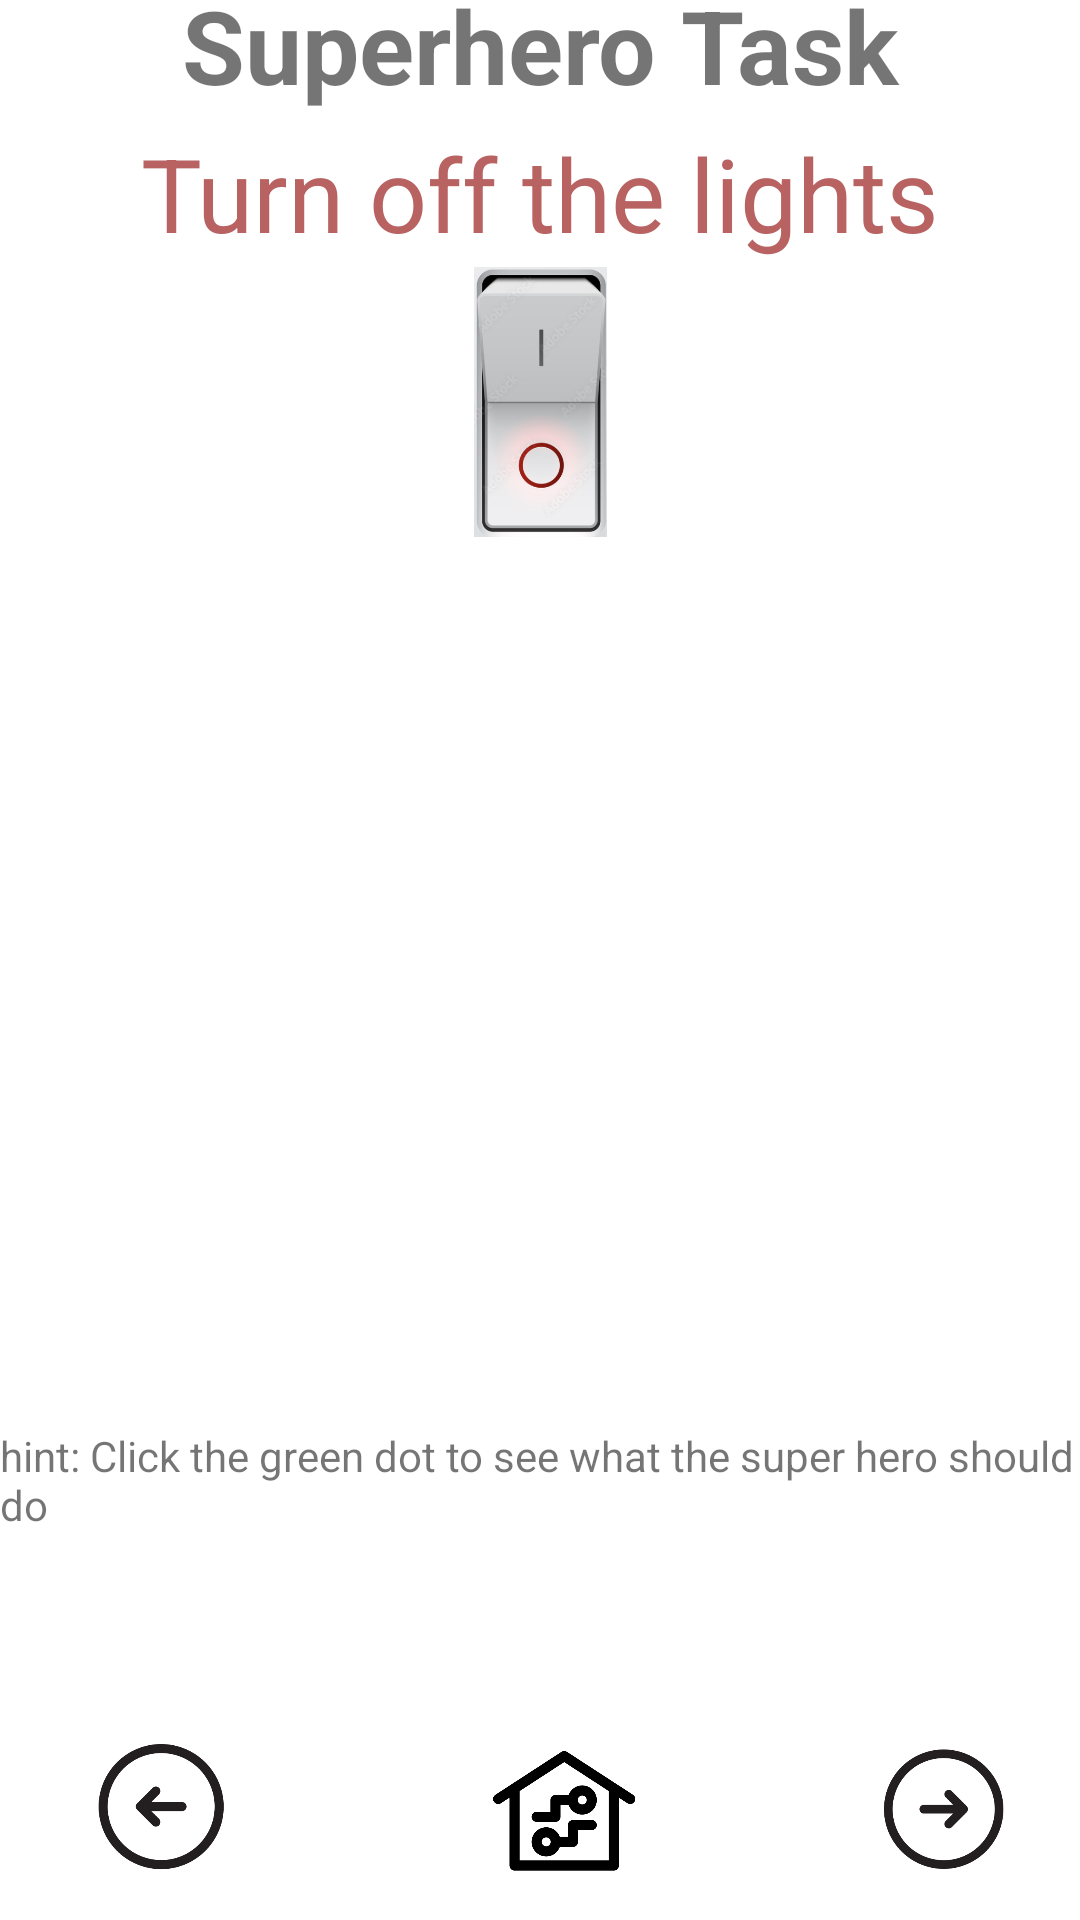

Named icons in this screenshot (1080 × 1920) and their bounding boxes, region(x1, y1, x2, y2):
back: region(98, 1744, 224, 1869)
forward: region(884, 1749, 1004, 1869)
home: region(493, 1751, 635, 1871)
